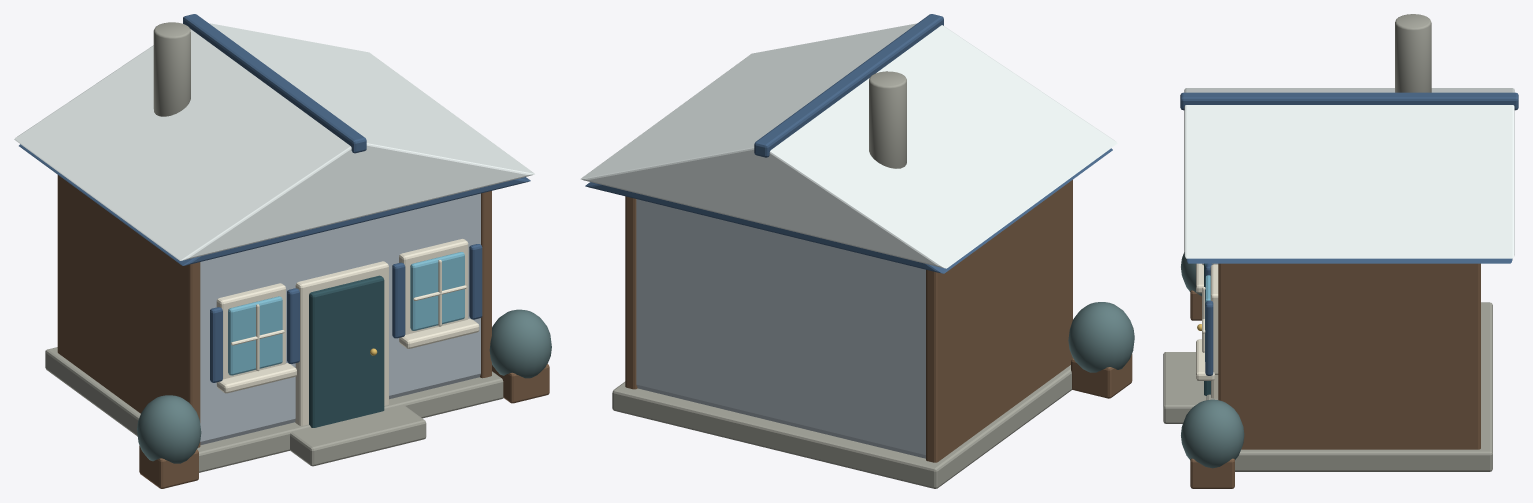
File: house-winter.glb
3 renders of one model, left to right at view 1: azimuth 30°, elevation 25°; view 2: azimuth 150°, elevation 25°; view 3: azimuth 270°, elevation 25°, orthographic. The views are drawn at different scales.
Parts seen in each view (by area): view 1: Geometry_Snow, Geometry_Wood, Geometry_Wall, Geometry_Foundation, Geometry_Door, Geometry_Roof, Geometry_Trim, Geometry_Plant, Geometry_Glass; view 2: Geometry_Snow, Geometry_Wall, Geometry_Wood, Geometry_Foundation, Geometry_Roof, Geometry_Plant; view 3: Geometry_Snow, Geometry_Wood, Geometry_Foundation, Geometry_Roof, Geometry_Plant, Geometry_Trim.
Part boxes in pixels (x1,y1,x2,y2): Geometry_Snow: [14, 23, 535, 260]; Geometry_Wood: [57, 175, 549, 488]; Geometry_Wall: [200, 193, 480, 445]; Geometry_Foundation: [45, 22, 503, 472]; Geometry_Door: [309, 275, 384, 427]; Geometry_Roof: [19, 14, 530, 382]; Geometry_Trim: [216, 238, 479, 425]; Geometry_Plant: [137, 309, 551, 463]; Geometry_Glass: [228, 252, 464, 375]; Geometry_Snow: [580, 23, 1117, 268]; Geometry_Wall: [636, 199, 925, 458]; Geometry_Wood: [625, 180, 1132, 462]; Geometry_Foundation: [612, 71, 1071, 488]; Geometry_Roof: [585, 14, 1112, 273]; Geometry_Plant: [1068, 302, 1134, 372]; Geometry_Snow: [1184, 88, 1514, 258]; Geometry_Wood: [1190, 263, 1480, 488]; Geometry_Foundation: [1163, 14, 1492, 471]; Geometry_Roof: [1180, 92, 1518, 375]; Geometry_Plant: [1181, 252, 1244, 468]; Geometry_Trim: [1196, 263, 1218, 398].
Bounding box in the file's own units: 5.8 × 4.75 × 4.46.
